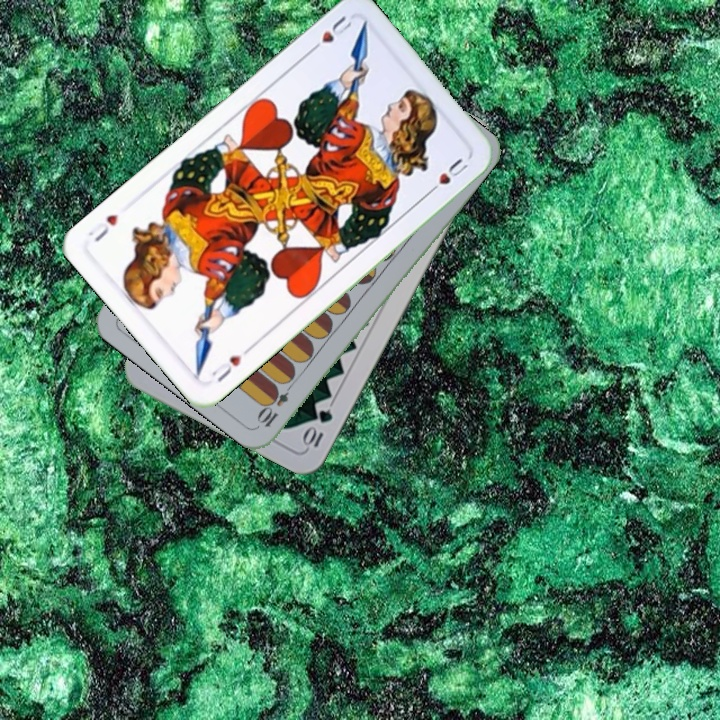E10: (254, 376, 297, 430)
G10: (300, 404, 336, 451)
HU: (305, 11, 355, 56), (207, 343, 254, 385)
